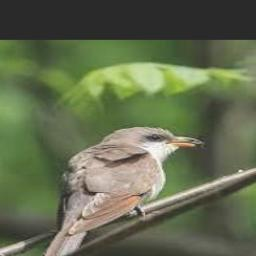Cuckoo: (34, 127, 202, 256)
